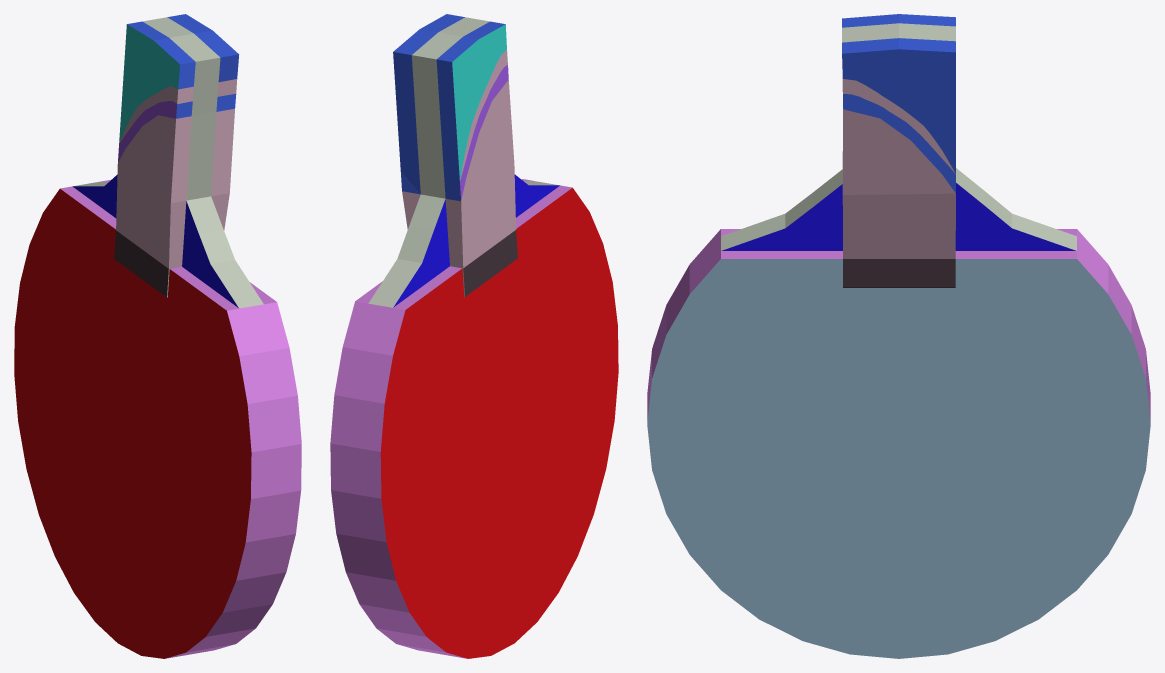
File: Paddles2.glb
The picture shows the model from 3 angles, left to right: view 1: azimuth 30°, elevation 25°; view 2: azimuth 150°, elevation 25°; view 3: azimuth 270°, elevation 25°; orthographic projection. The views are drawn at different scales.
Visible parts, largest first — view 1: Circle; view 2: Circle; view 3: Circle.
Part boxes in pixels (x1,y1,x2,y2): Circle: (14,14,301,658); Circle: (330,14,618,658); Circle: (647,14,1150,658).
Size of the model in its own units: 0.8009 by 4.82 by 3.45.
